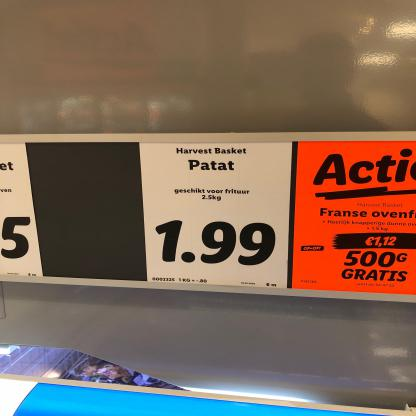prtg: (140, 143, 293, 289), (293, 142, 416, 296), (1, 143, 44, 278)
